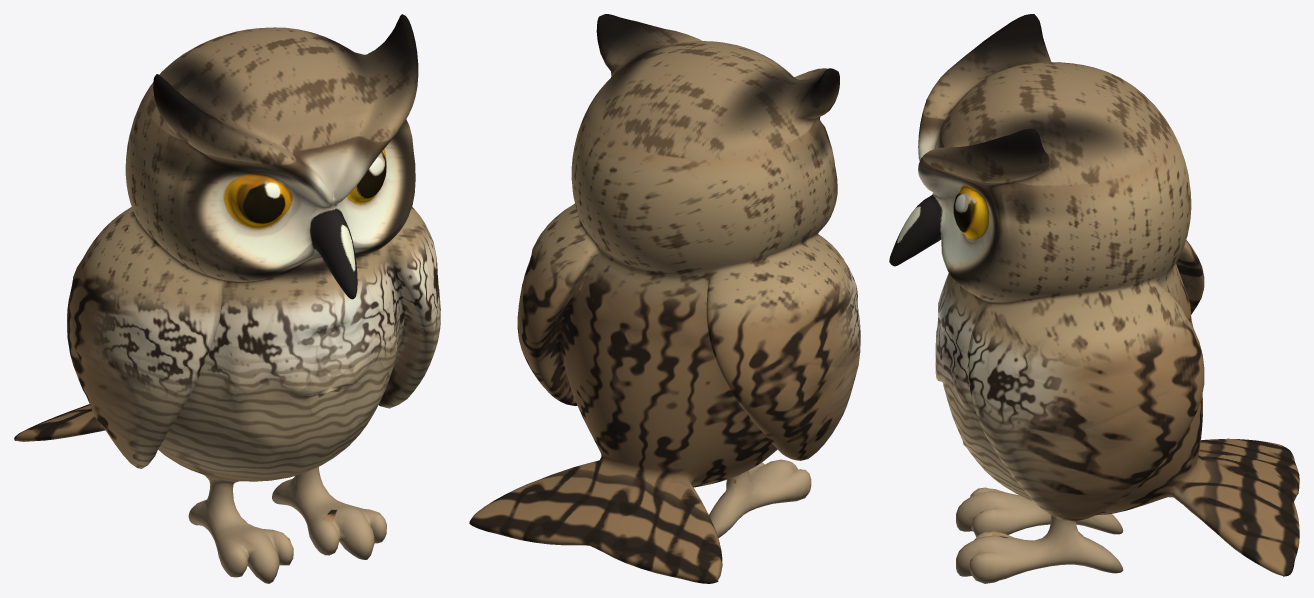
The model's file is Buho.glb.
3 renders of one model, left to right at view 1: azimuth 30°, elevation 25°; view 2: azimuth 150°, elevation 25°; view 3: azimuth 270°, elevation 25°, orthographic. The views are drawn at different scales.
Parts seen in each view (by area): view 1: model; view 2: model; view 3: model.
Part boxes in pixels (x1,y1,x2,y2): model: [14, 14, 440, 583]; model: [469, 14, 860, 583]; model: [889, 14, 1299, 583].
Bounding box in the file's own units: 1.3 × 1.89 × 1.46.
1 material, 1 textured.
